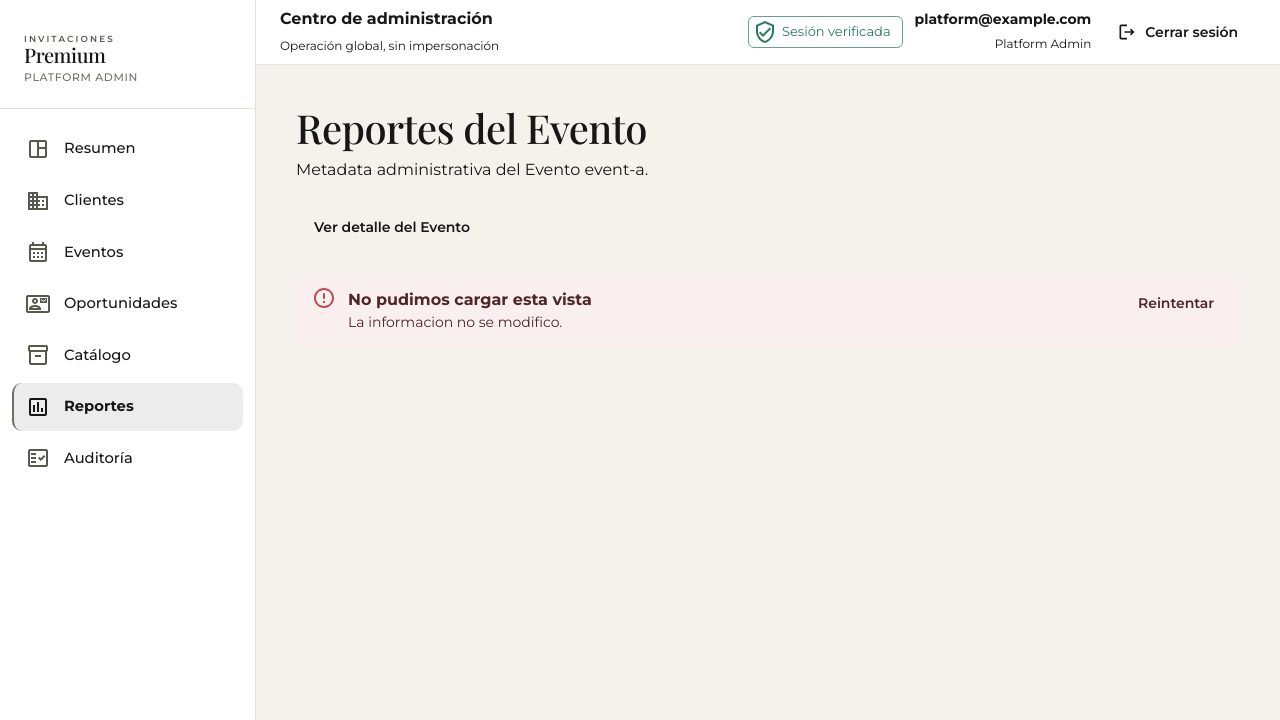
Test: reportes administrativos › muestra error, retry y empty state por Evento sin perder la sesion
The width and height of the screenshot is (1280, 720).
What coordinates should you click on to do the following:
click the button "Reintentar"
I would click on:
 (1176, 304)
Its box is [1120,283,1232,325].
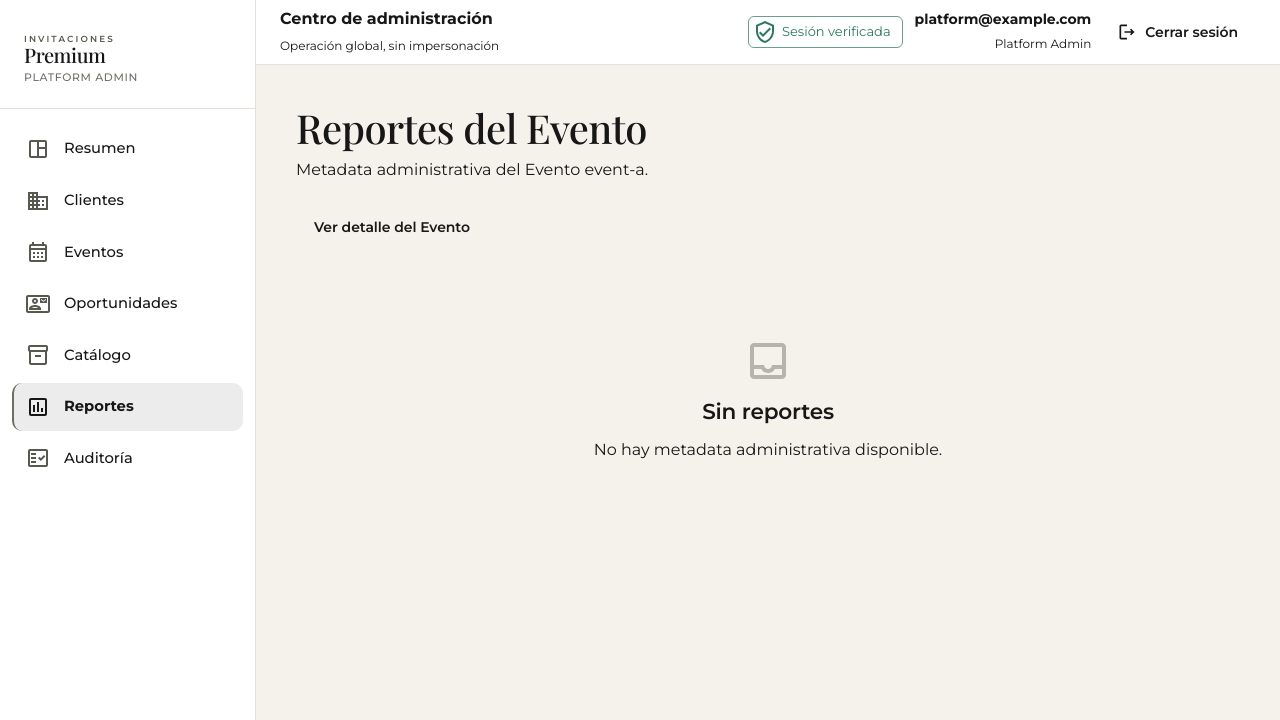
expect the text "platform@example.com" is shown: met, box [915,9,1091,30]
expect the heading "Sin reportes" is shown: met, box [702,397,834,425]
